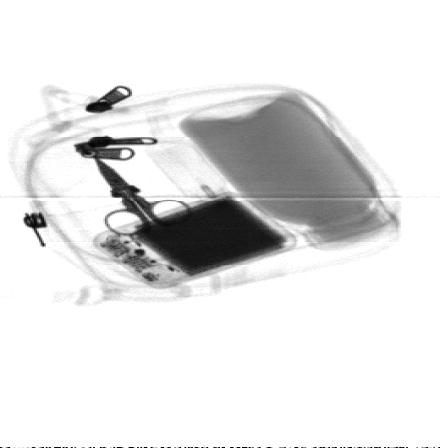Powerbank: (94, 192, 299, 290)
Scissors: (91, 153, 192, 237)
